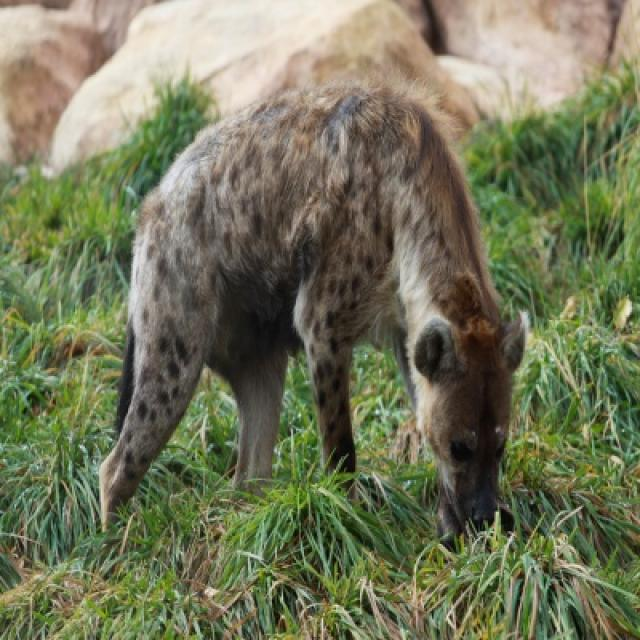hyena: (98, 85, 528, 546)
